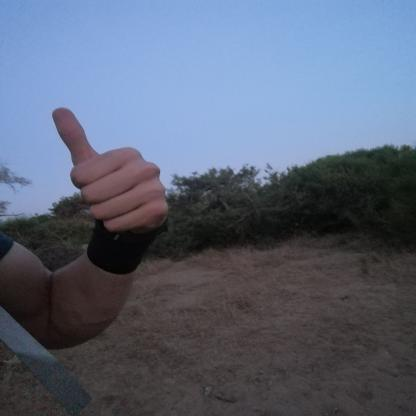ALIF: (43, 100, 178, 247)
